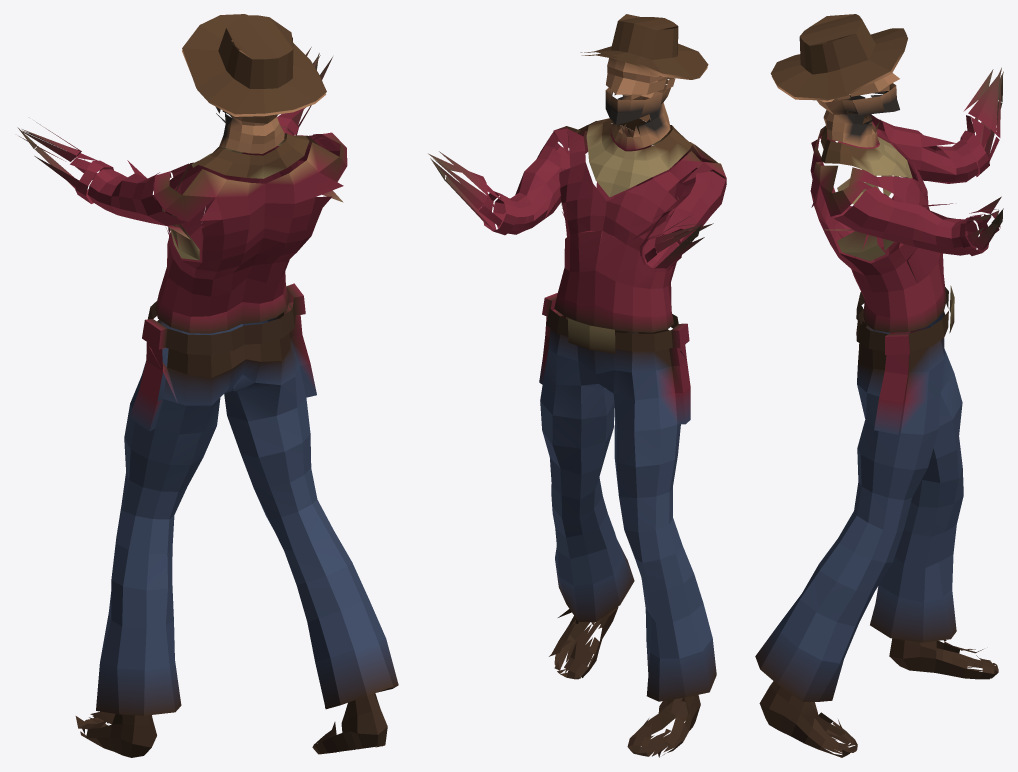
File: man_5_pump.fbx
3 renders of one model, left to right at view 1: azimuth 30°, elevation 25°; view 2: azimuth 150°, elevation 25°; view 3: azimuth 270°, elevation 25°, orthographic. The views are drawn at different scales.
Visible parts, largest first — view 1: cowboy; view 2: cowboy; view 3: cowboy.
Boxes of the visible parts, x1,y1,x2,y2 form: cowboy: (17, 14, 398, 757); cowboy: (428, 14, 726, 757); cowboy: (755, 14, 1003, 757).
Bounding box in the file's own units: 0.4507 × 1.01 × 0.3271.
